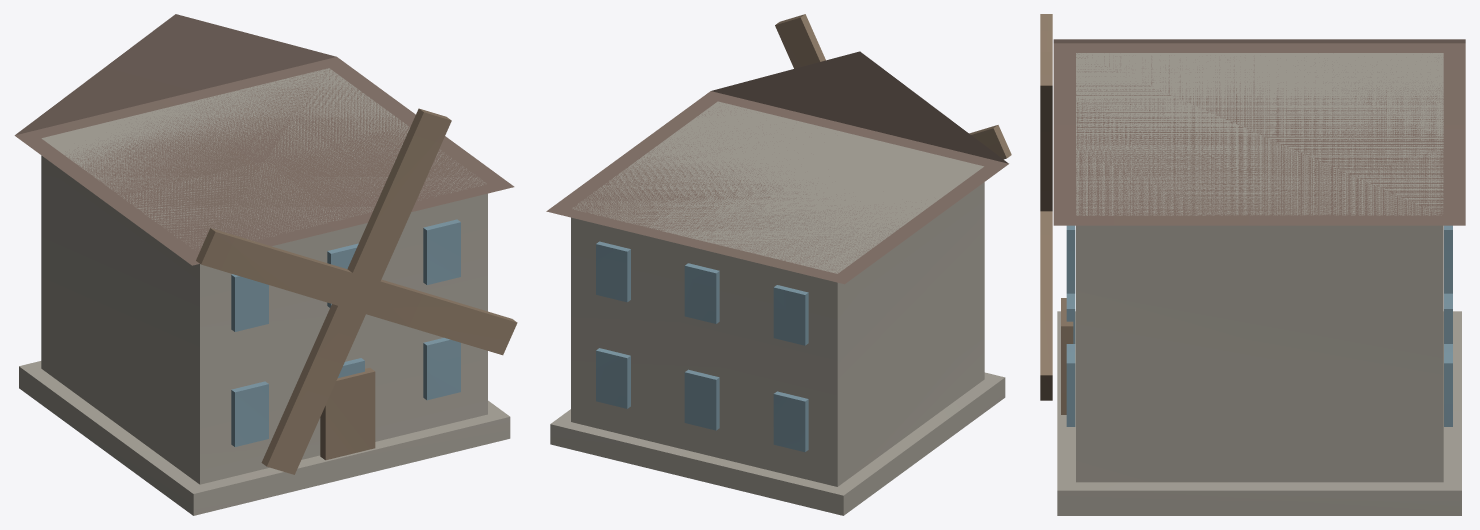
Rendered from windmill-04.glb.
3 renders of one model, left to right at view 1: azimuth 30°, elevation 25°; view 2: azimuth 150°, elevation 25°; view 3: azimuth 270°, elevation 25°, orthographic. The views are drawn at different scales.
Visible parts, largest first — view 1: world; view 2: world; view 3: world.
Boxes of the visible parts, x1=… form: world: x1=14, y1=14, x2=517, y2=515; world: x1=546, y1=14, x2=1011, y2=515; world: x1=1040, y1=14, x2=1465, y2=515.
Bounding box in the file's own units: 1.23 × 1.29 × 1.21.
